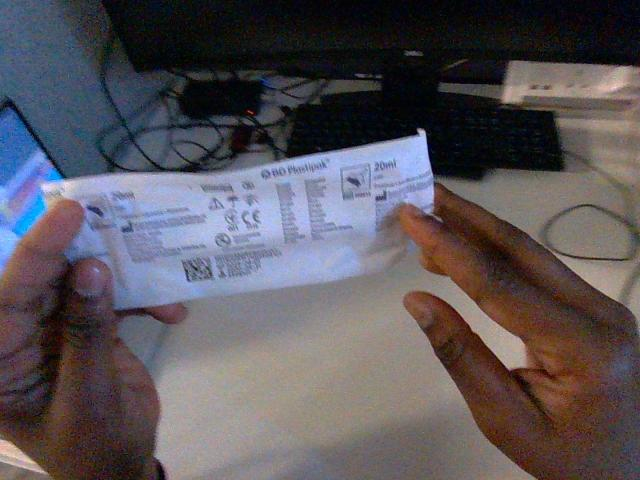syringe: (43, 130, 433, 308)
